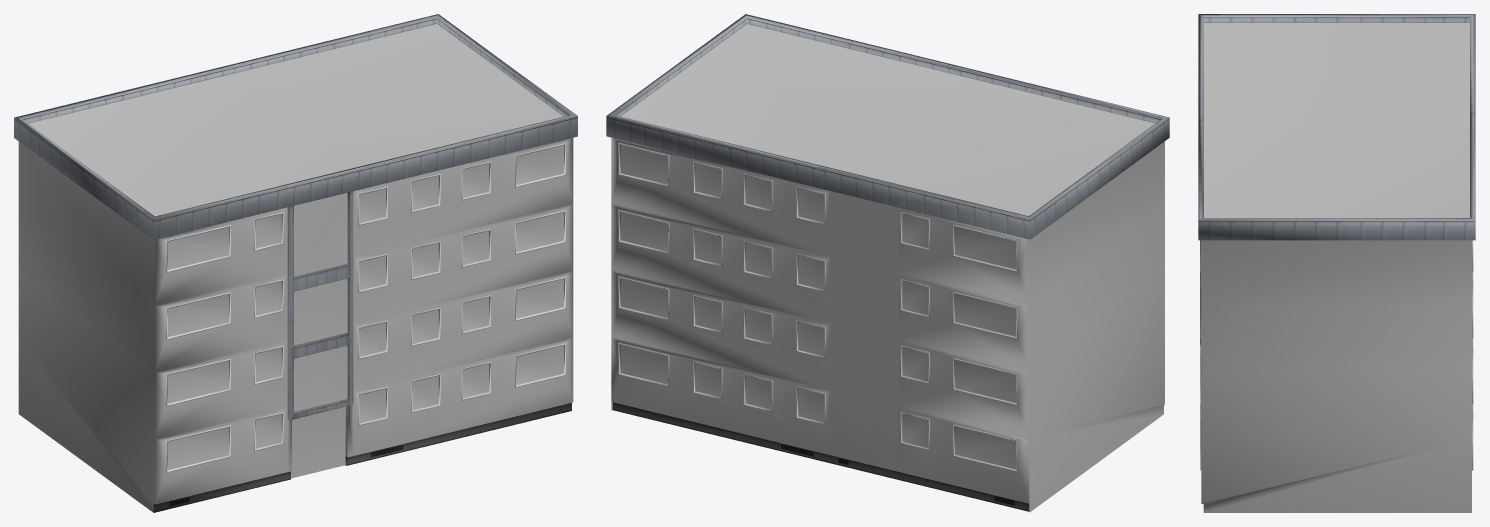
Rendered from mehrfamilienhaus_02.fbx.
3 renders of one model, left to right at view 1: azimuth 30°, elevation 25°; view 2: azimuth 150°, elevation 25°; view 3: azimuth 270°, elevation 25°, orthographic.
Parts seen in each view (by area): view 1: mehrfamilienhaus_02; view 2: mehrfamilienhaus_02; view 3: mehrfamilienhaus_02.
Boxes of the visible parts, left/top/right/bottom form: mehrfamilienhaus_02: left=14, top=14, right=577, bottom=512; mehrfamilienhaus_02: left=606, top=14, right=1169, bottom=512; mehrfamilienhaus_02: left=1198, top=14, right=1475, bottom=512.
Bounding box in the file's own units: 1544 × 1029 × 878.
